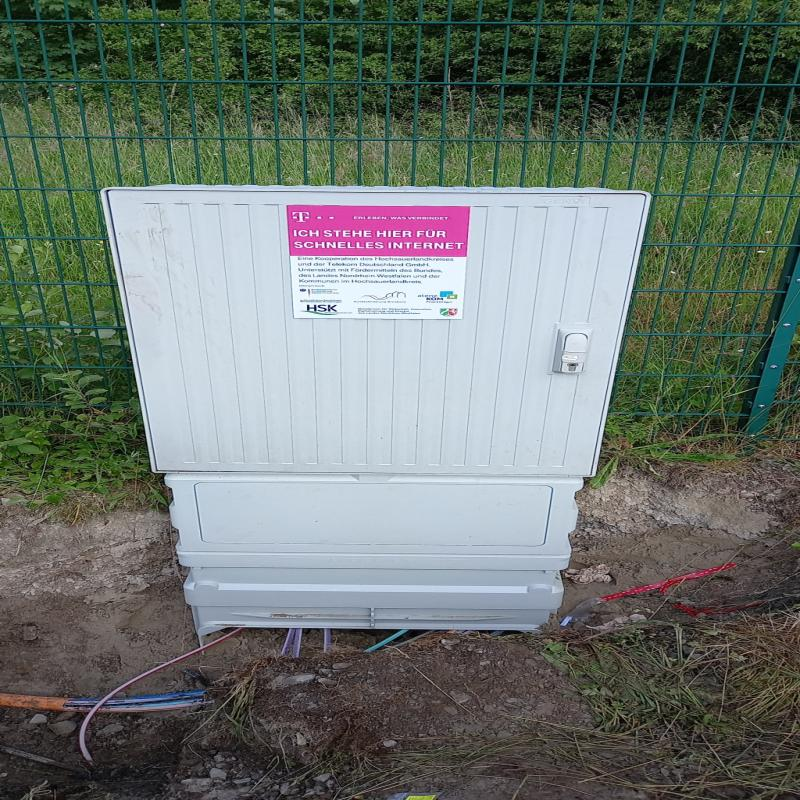NT-Gehause: (113, 191, 638, 617)
Orang-Speednetrohrchen: (0, 689, 206, 711)
Steaker: (278, 206, 471, 320)
